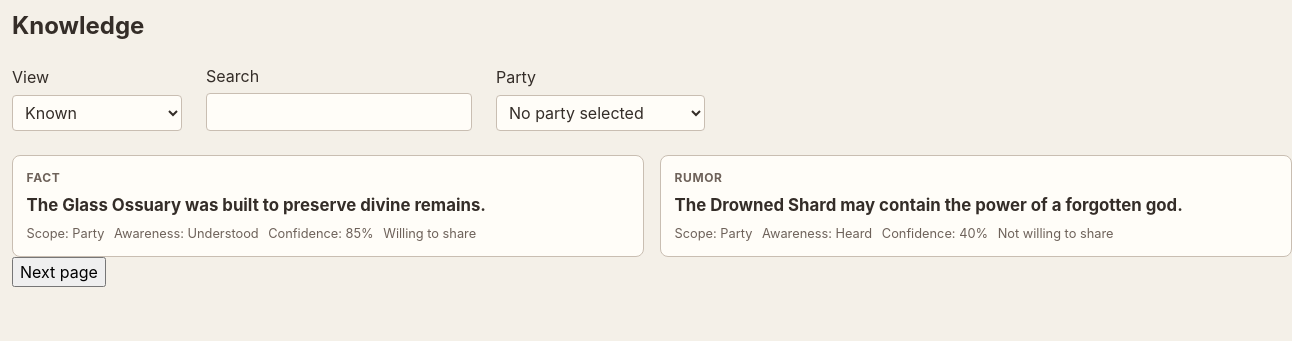
Test: CampaignKnowledgePage › keeps showing previous results while a search refreshes
Expected: the text "The Glass Ossuary was built to preserve divine remains." is shown, [27, 195, 486, 215]
Type "ossuary" into the search field labelled "Search" at (339, 112), box [206, 93, 472, 131]
Wait 380 ms
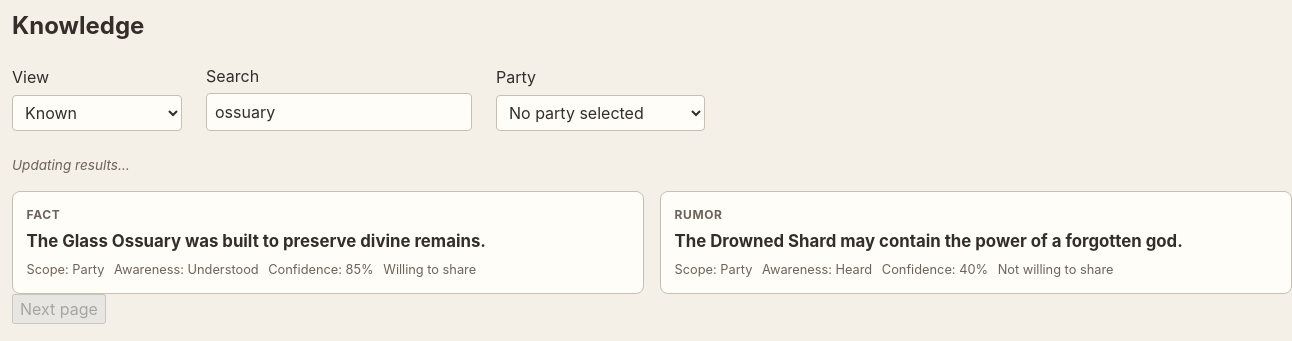
Expected: the text "The Glass Ossuary was built to preserve divine remains." is shown, [27, 231, 486, 251]
Expected: the text "Updating results…" is shown, [12, 157, 130, 173]
